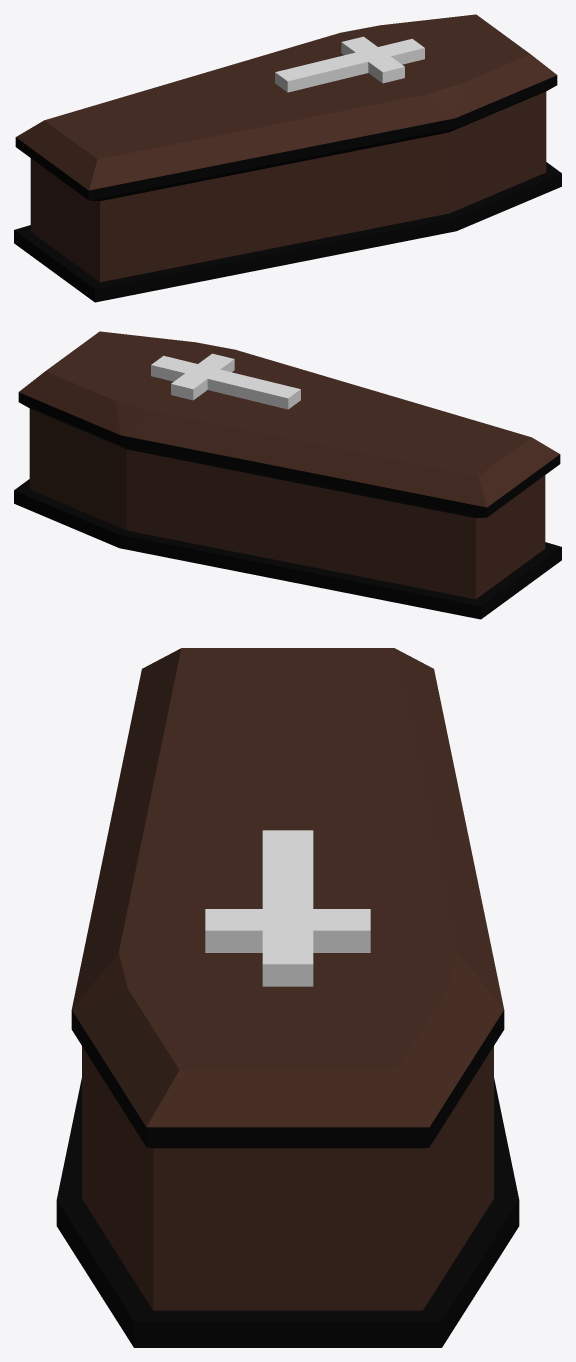
Rendered from coffincolor.fbx.
The picture shows the model from 3 angles, top to bottom: view 1: azimuth 30°, elevation 25°; view 2: azimuth 150°, elevation 25°; view 3: azimuth 270°, elevation 25°; orthographic projection. The views are drawn at different scales.
Visible parts, largest first — view 1: Coffin; view 2: Coffin; view 3: Coffin.
Part boxes in pixels (x1,y1,x2,y2): Coffin: [14, 14, 561, 302]; Coffin: [14, 331, 561, 619]; Coffin: [56, 648, 519, 1347].
Bounding box in the file's own units: 758 × 216 × 322.
